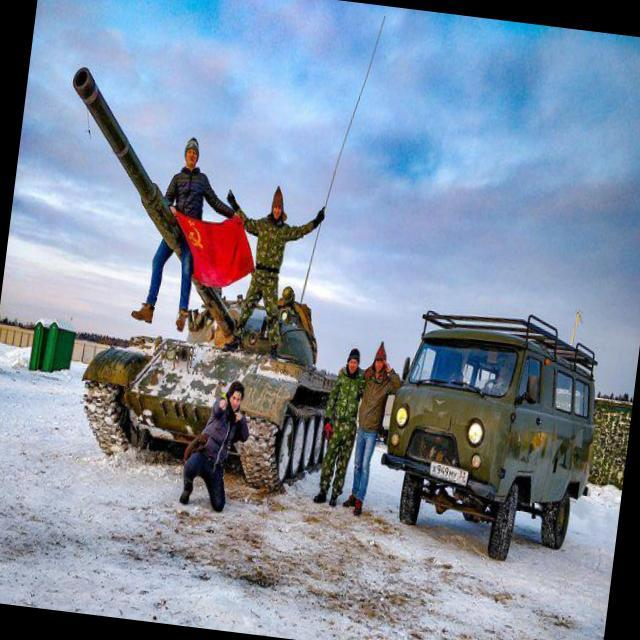rocket: (48, 64, 260, 334)
